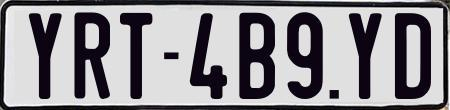4: (187, 10, 225, 102)
9: (287, 11, 325, 103)
B: (239, 11, 276, 101)
D: (392, 10, 428, 101)
R: (74, 12, 110, 101)
T: (120, 10, 155, 102)
Y: (346, 13, 383, 101), (26, 12, 62, 99)
